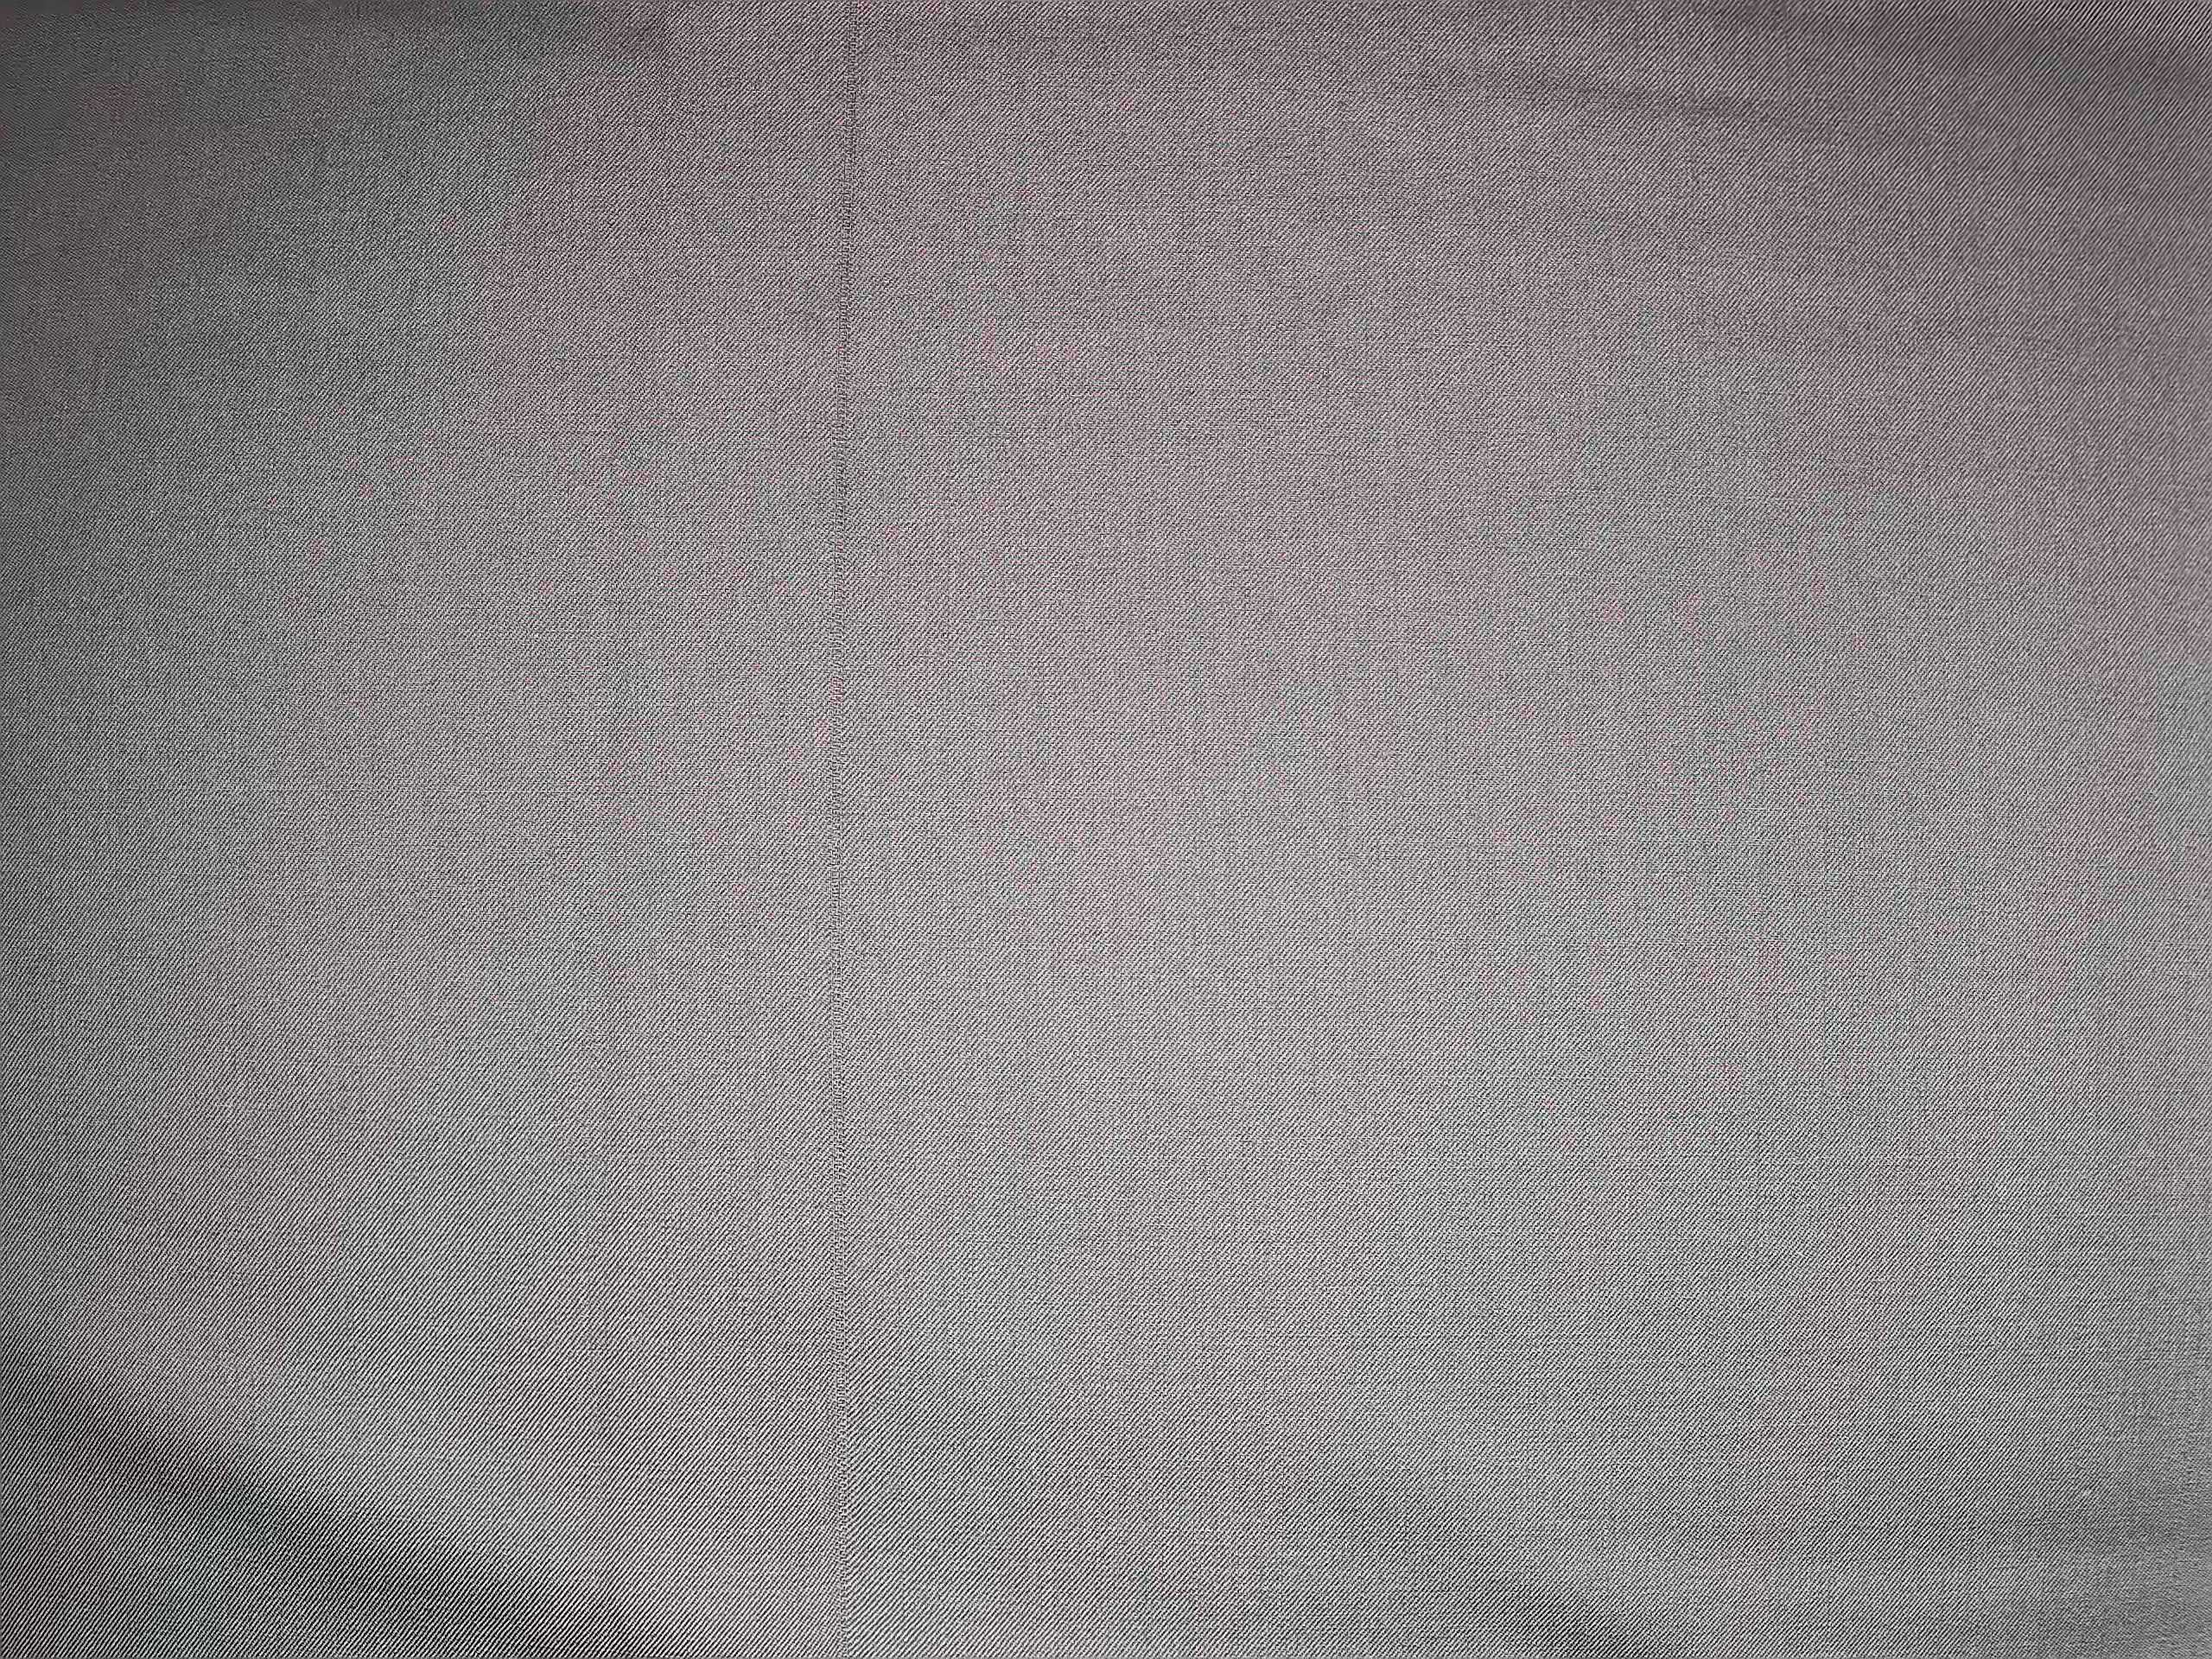hanging-warp: (806, 10, 878, 1649)
